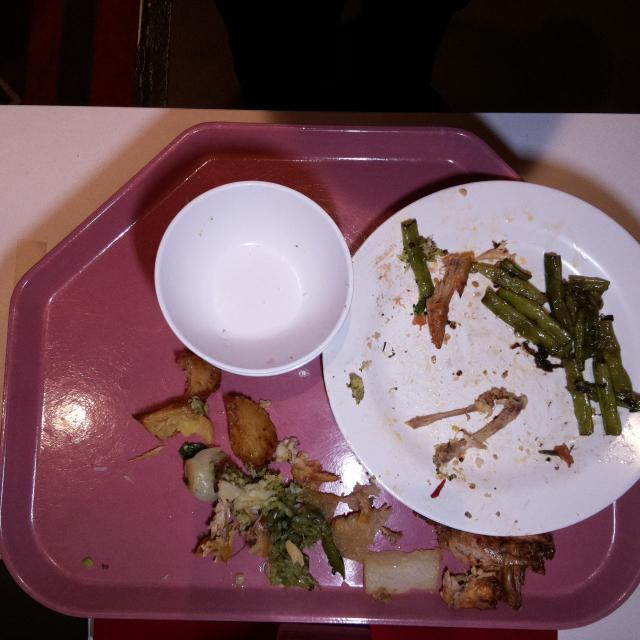Bone: (404, 390, 530, 464), (442, 537, 554, 613), (133, 362, 217, 444), (422, 248, 474, 348), (278, 435, 338, 487), (193, 498, 235, 556)
Potato: (220, 392, 282, 471)
Vegetable: (484, 251, 606, 368), (563, 366, 631, 438), (399, 216, 435, 330)
